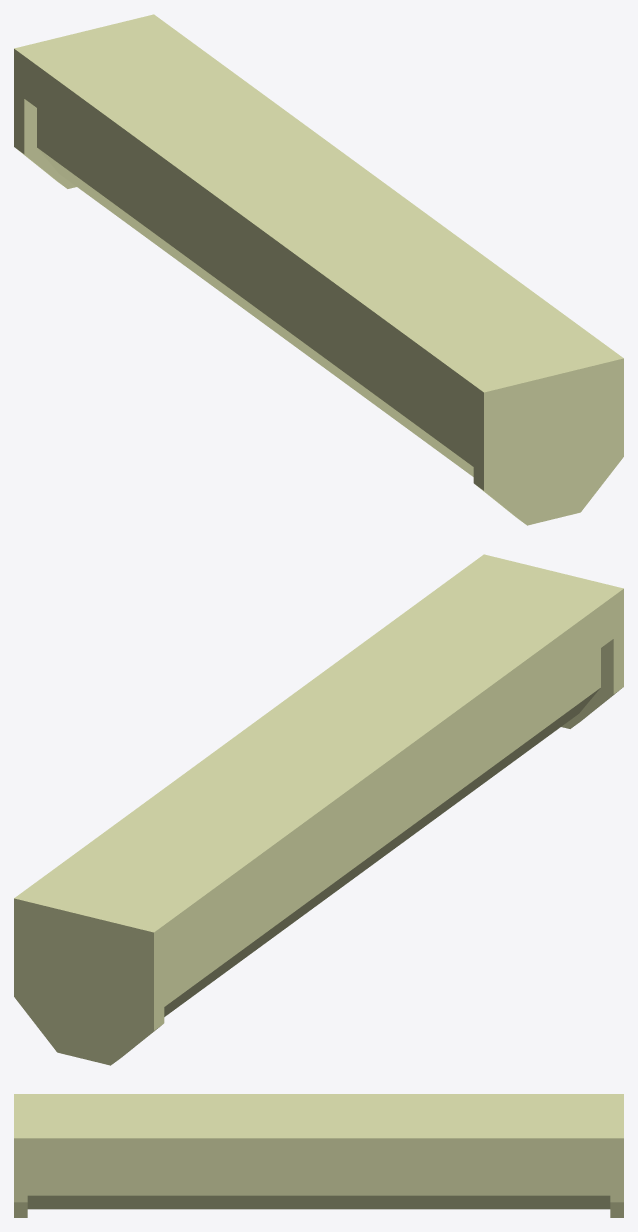
The model's file is Ceiling Light industrial.fbx.
The picture shows the model from 3 angles, top to bottom: view 1: azimuth 30°, elevation 25°; view 2: azimuth 150°, elevation 25°; view 3: azimuth 270°, elevation 25°; orthographic projection. The views are drawn at different scales.
Parts seen in each view (by area): view 1: Ceiling light Industrial; view 2: Ceiling light Industrial; view 3: Ceiling light Industrial.
Part boxes in pixels (<box>): Ceiling light Industrial: <box>14,14,623,525</box>; Ceiling light Industrial: <box>14,554,623,1065</box>; Ceiling light Industrial: <box>14,1094,623,1217</box>.
Size of the model in its own units: 10.2 by 10 by 59.31.
